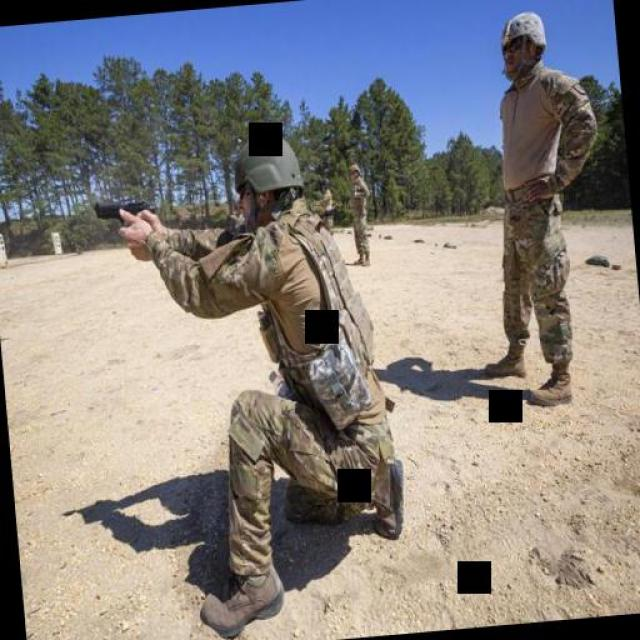gun: (90, 191, 155, 241)
